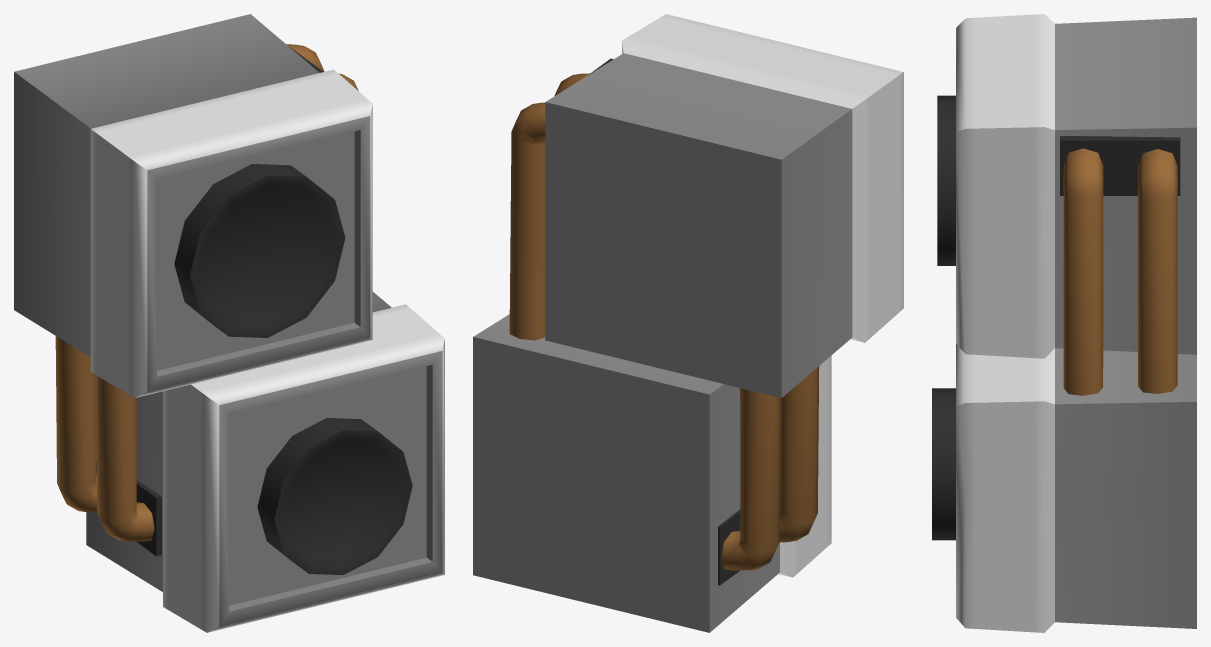
Rendered from quaternius-cyberpunk-ac-stacked.glb.
3 renders of one model, left to right at view 1: azimuth 30°, elevation 25°; view 2: azimuth 150°, elevation 25°; view 3: azimuth 270°, elevation 25°, orthographic. The views are drawn at different scales.
Parts seen in each view (by area): view 1: AC_Stacked; view 2: AC_Stacked; view 3: AC_Stacked.
Part boxes in pixels (x1,y1,x2,y2): AC_Stacked: (14, 14, 444, 632); AC_Stacked: (473, 14, 903, 632); AC_Stacked: (932, 14, 1196, 632).
Size of the model in its own units: 0.6701 by 1.01 by 0.5114.
